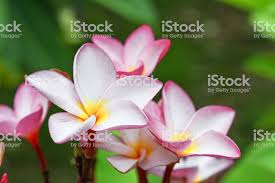frangipani: (25, 45, 162, 143)
